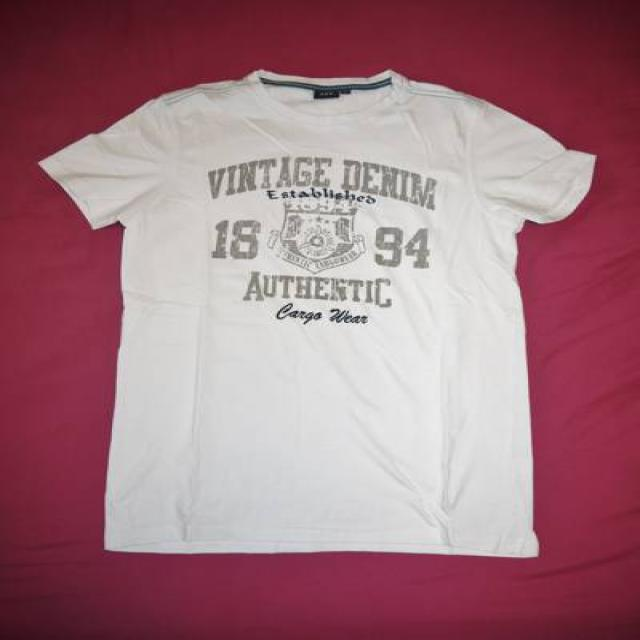shirt: (39, 68, 593, 558)
